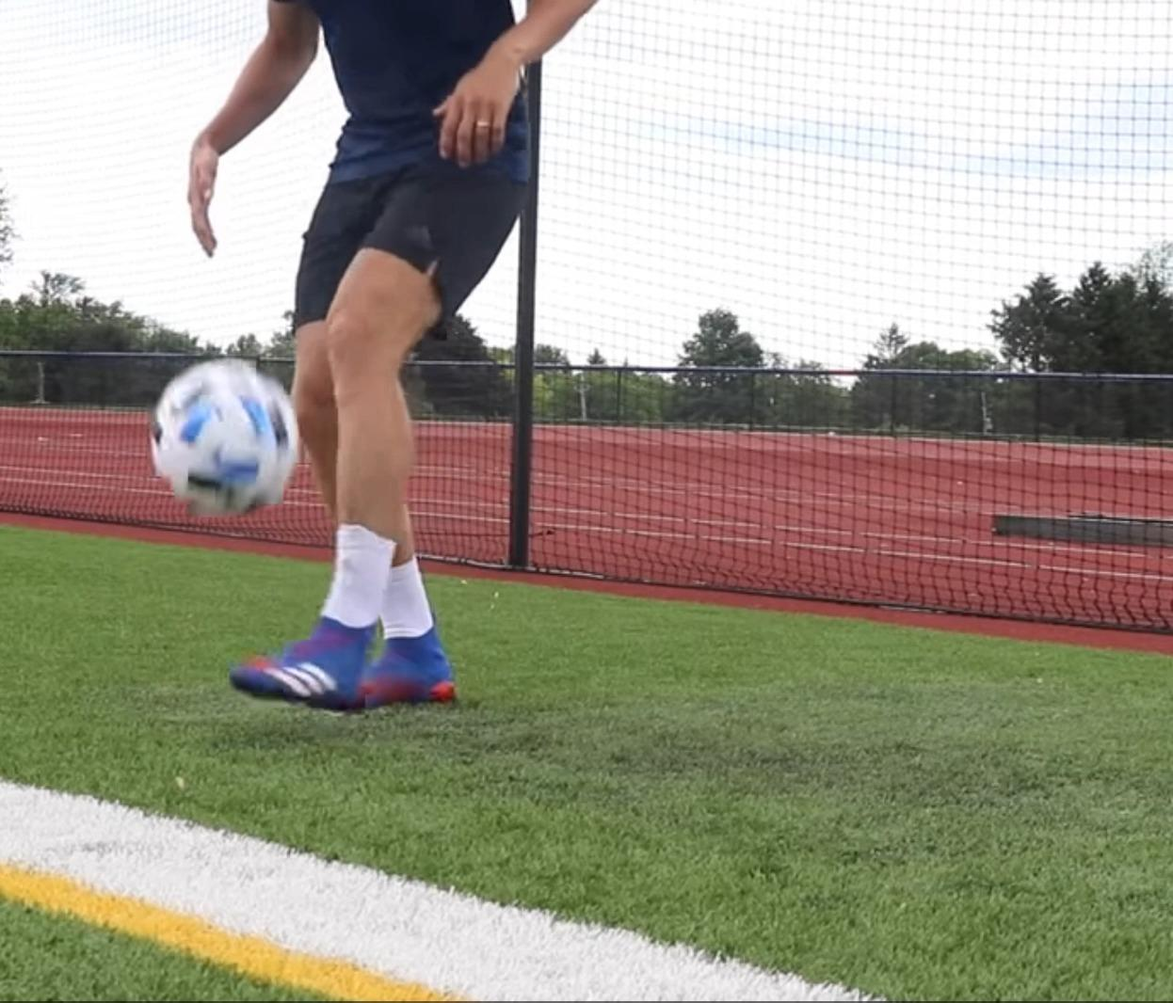ball: (151, 358, 295, 512)
foot: (225, 617, 365, 715), (358, 632, 462, 710)
person: (185, 0, 594, 711)
